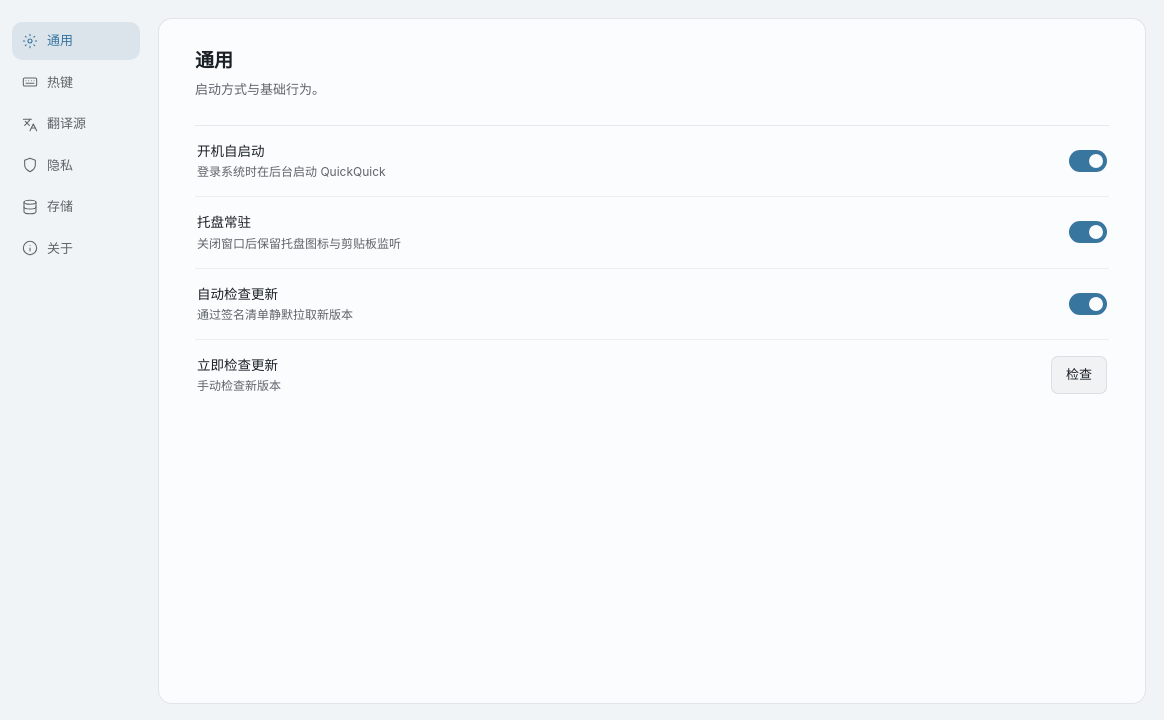
Test: settings-page › settings-page: 隐私面板——添加一项后列表出现该项且调 setExcludeList(含该项)
Click the button "隐私" at [76, 165], box [12, 146, 140, 184]
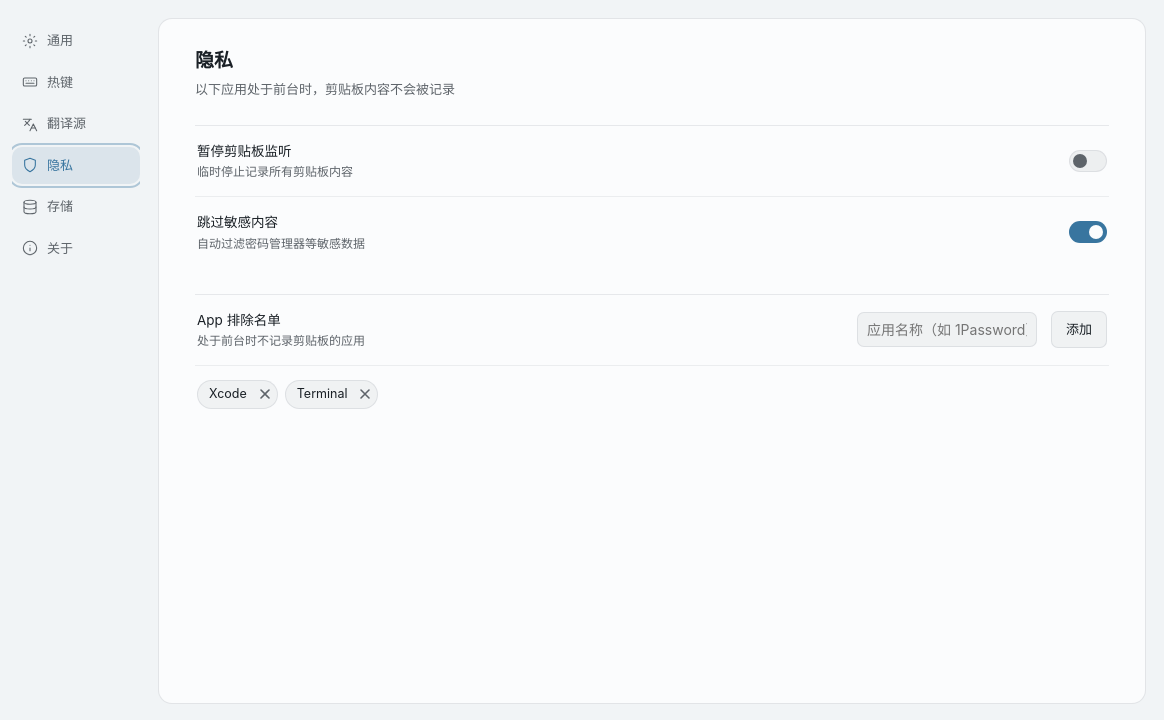
Expected: the text "Xcode" is shown, [197, 380, 278, 409]
Act：输入新 App 名称并添加
Type "Safari" into the field with placeholder "应用名称（如 1Password）" at [947, 330], box [857, 312, 1037, 347]
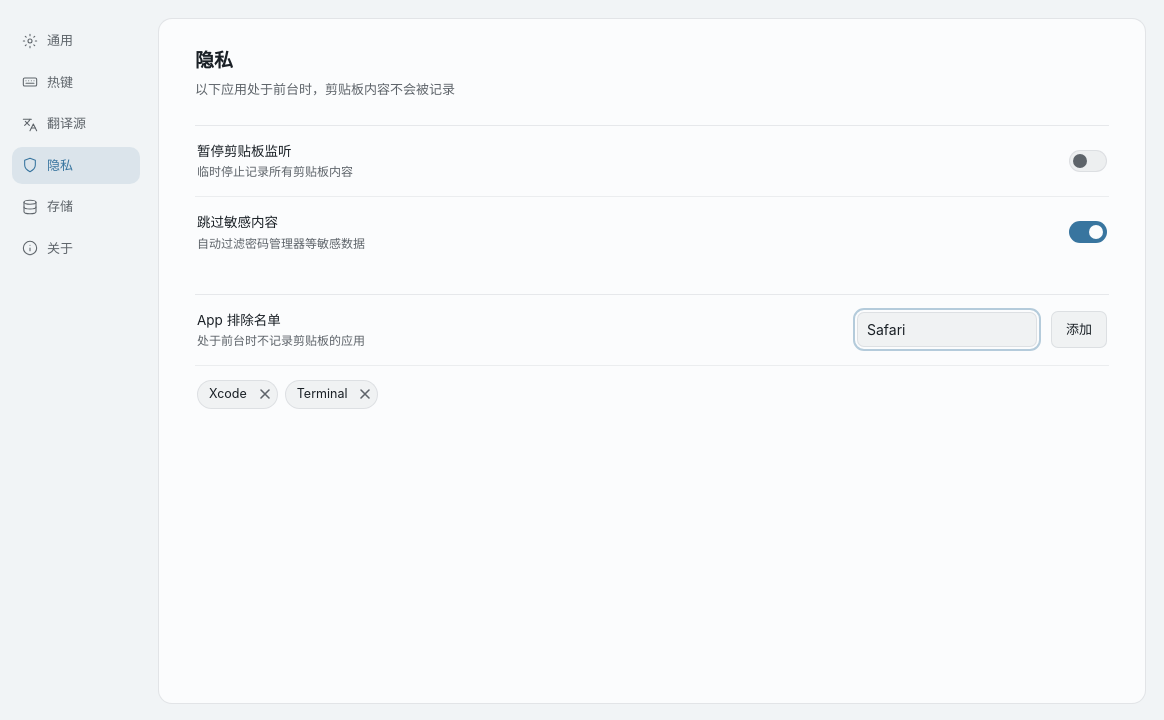
Click the button "添加" at [1079, 330], box [1051, 311, 1107, 348]
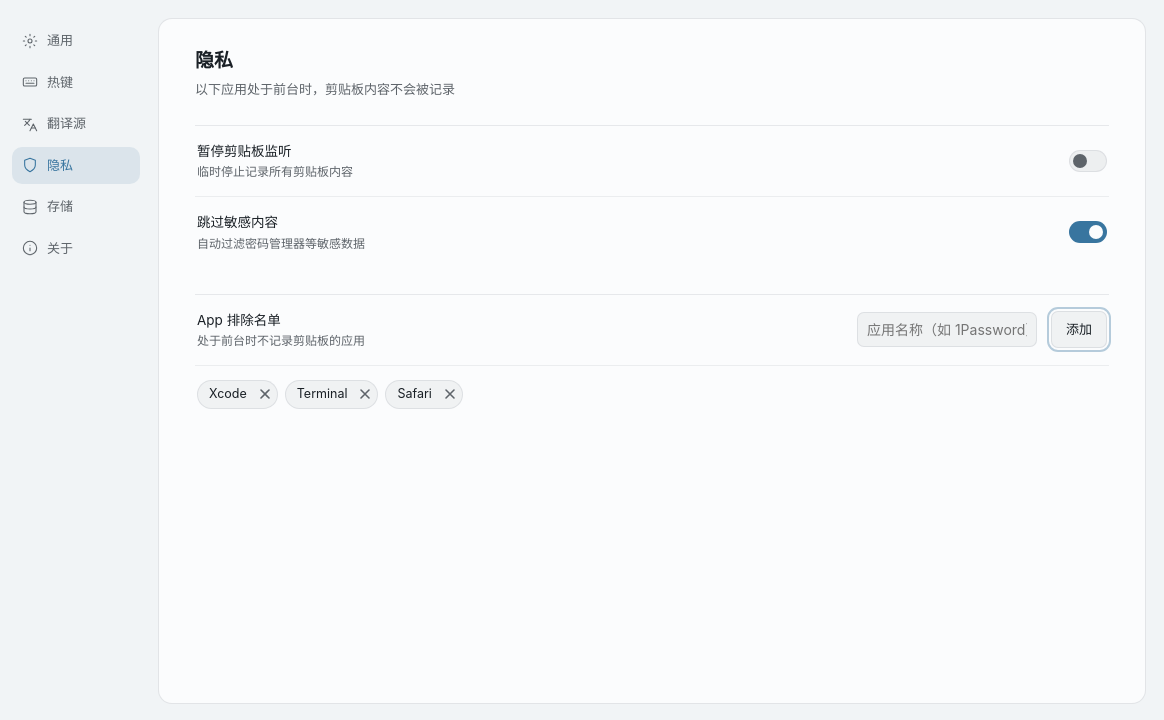
Expected: the text "Safari" is shown, [386, 380, 463, 409]
